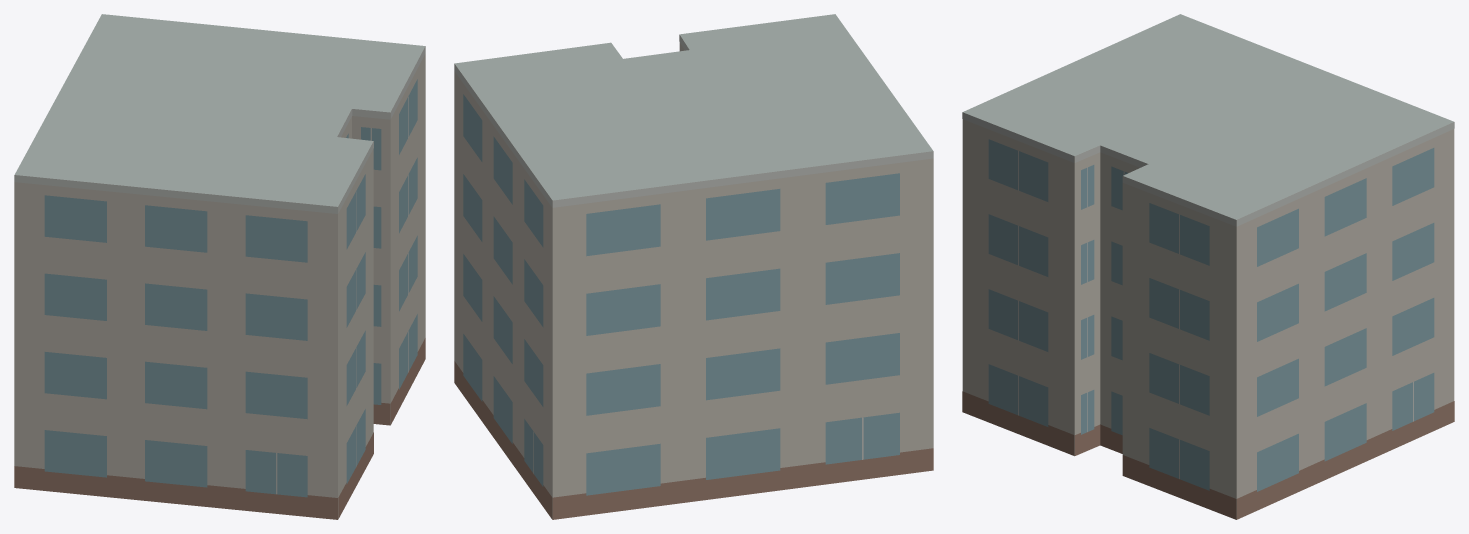
Rendered from survey-upis-32673873.glb.
3 renders of one model, left to right at view 1: azimuth 30°, elevation 25°; view 2: azimuth 150°, elevation 25°; view 3: azimuth 270°, elevation 25°, orthographic. The views are drawn at different scales.
Parts seen in each view (by area): view 1: survey-upis-32673873.tmp; view 2: survey-upis-32673873.tmp; view 3: survey-upis-32673873.tmp.
Boxes of the visible parts, box(x1,y1,x2,y2) form: survey-upis-32673873.tmp: box(14, 14, 425, 519); survey-upis-32673873.tmp: box(454, 14, 933, 519); survey-upis-32673873.tmp: box(962, 14, 1454, 519).
Bounding box in the file's own units: 15.69 × 10.65 × 15.84.
